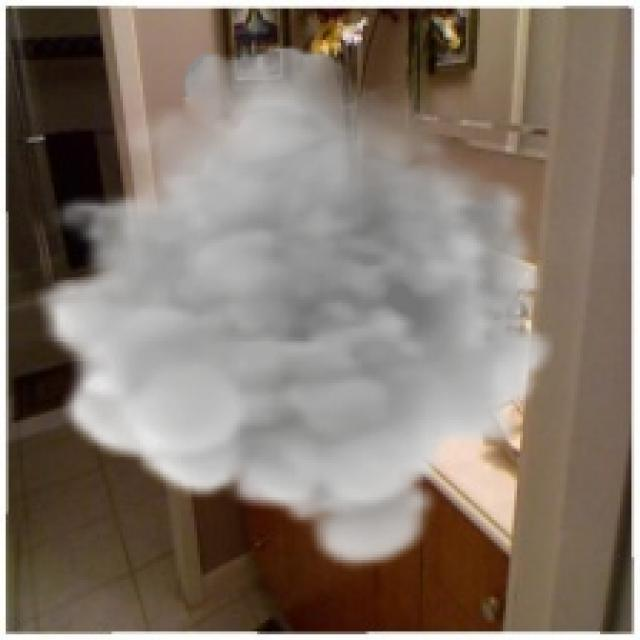Smoke: (34, 42, 554, 574)
